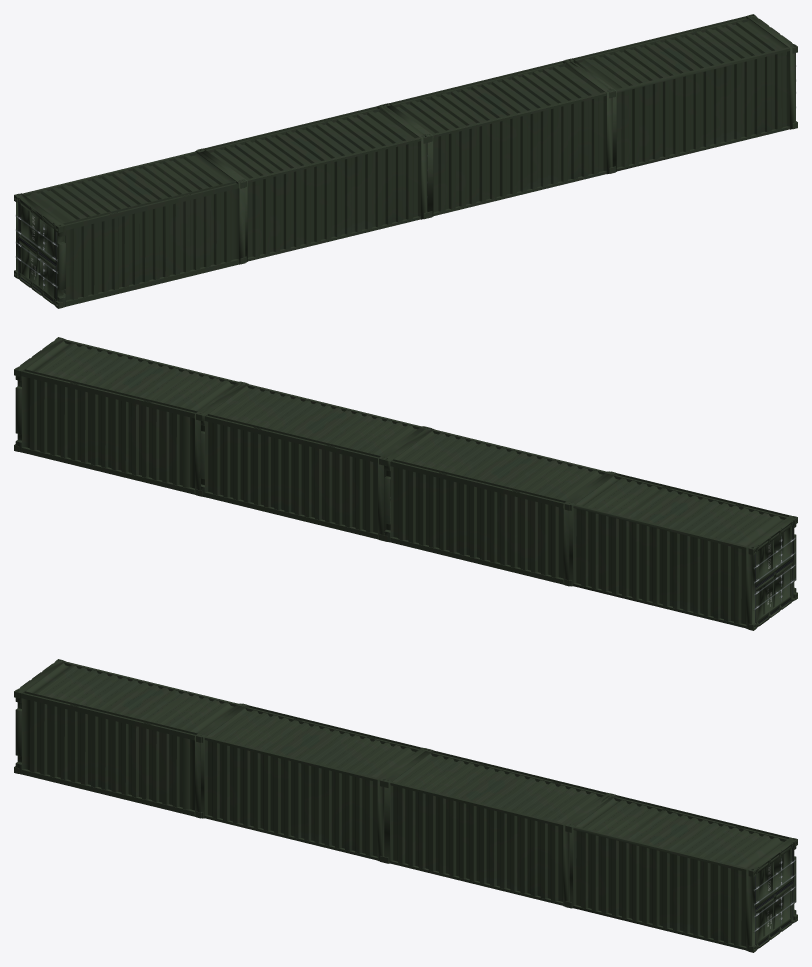
Rendered from container.glb.
3 views of the same model, one above another, from view 1: azimuth 30°, elevation 25°; view 2: azimuth 150°, elevation 25°; view 3: azimuth 330°, elevation 25° (orthographic).
Visible parts, largest first — view 1: 12281_Container_v2_L2, 12281_Container_v2_L2.003, 12281_Container_v2_L2.002, 12281_Container_v2_L2.001; view 2: 12281_Container_v2_L2, 12281_Container_v2_L2.003, 12281_Container_v2_L2.001, 12281_Container_v2_L2.002; view 3: 12281_Container_v2_L2.002, 12281_Container_v2_L2, 12281_Container_v2_L2.003, 12281_Container_v2_L2.001.
Boxes of the visible parts, x1,y1,x2,y2 form: 12281_Container_v2_L2: (14, 149, 245, 308); 12281_Container_v2_L2.003: (383, 59, 614, 218); 12281_Container_v2_L2.002: (567, 14, 797, 173); 12281_Container_v2_L2.001: (197, 104, 427, 262); 12281_Container_v2_L2: (567, 471, 797, 630); 12281_Container_v2_L2.003: (197, 382, 427, 540); 12281_Container_v2_L2.001: (382, 427, 613, 586); 12281_Container_v2_L2.002: (14, 337, 244, 496); 12281_Container_v2_L2.002: (566, 793, 797, 952); 12281_Container_v2_L2: (14, 659, 244, 818); 12281_Container_v2_L2.003: (383, 749, 613, 907); 12281_Container_v2_L2.001: (198, 703, 428, 862).
Size of the model in its own units: 153 by 16.18 by 16.12.
Materials: 2 (2 with a texture image).
